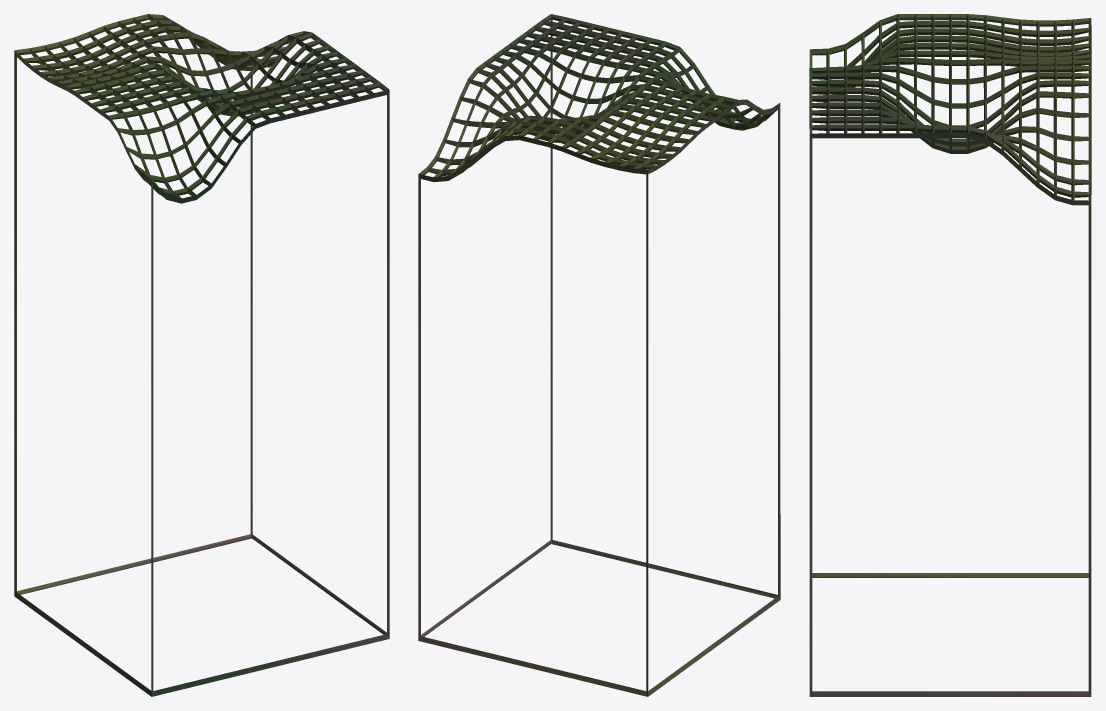
Rendered from erimis zemin3.fbx.
3 views of the same model, side by side, from view 1: azimuth 30°, elevation 25°; view 2: azimuth 150°, elevation 25°; view 3: azimuth 270°, elevation 25° (orthographic). The views are drawn at different scales.
Visible parts, largest first — view 1: Cube.117; view 2: Cube.117; view 3: Cube.117.
Part boxes in pixels (box(x1,y1,x2,y2)): Cube.117: box(14, 14, 389, 696); Cube.117: box(418, 14, 780, 696); Cube.117: box(809, 14, 1091, 696).
Size of the model in its own units: 526 by 1161 by 526.
Materials: 1 (1 with a texture image).
